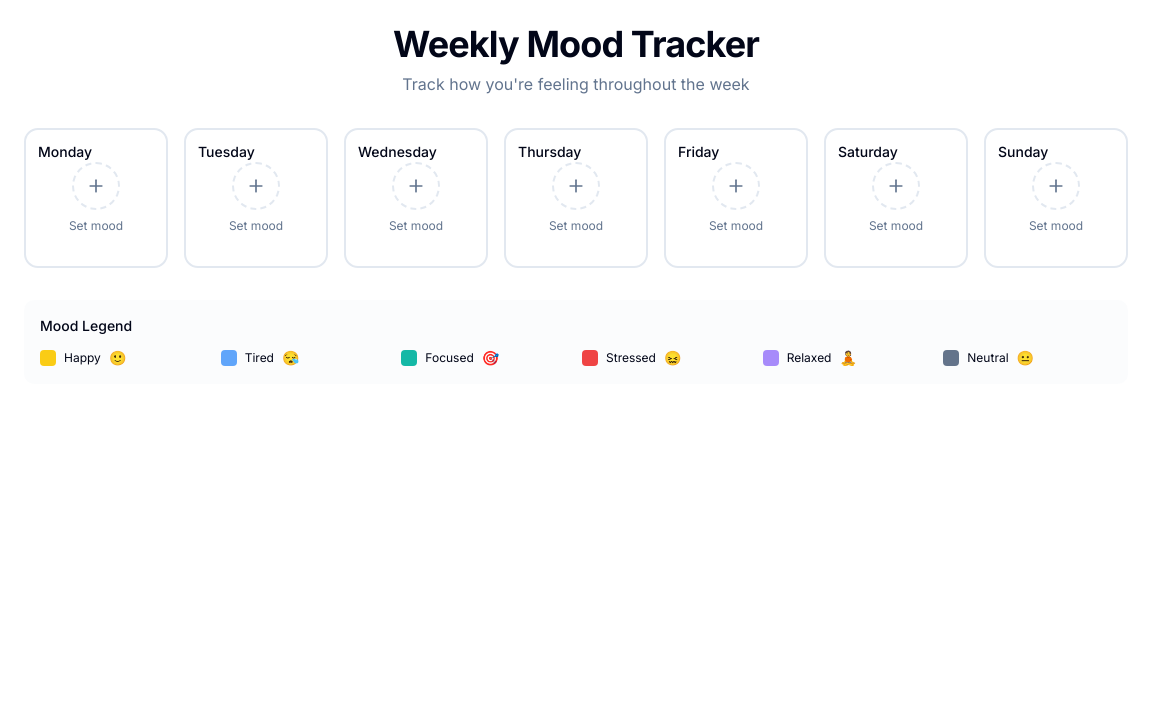
Test case: MoodBoard › lets the user set a day's mood
The width and height of the screenshot is (1152, 720).
Click the button with aria-label "Tuesday mood: not set": [256, 198] box [184,128,328,268]
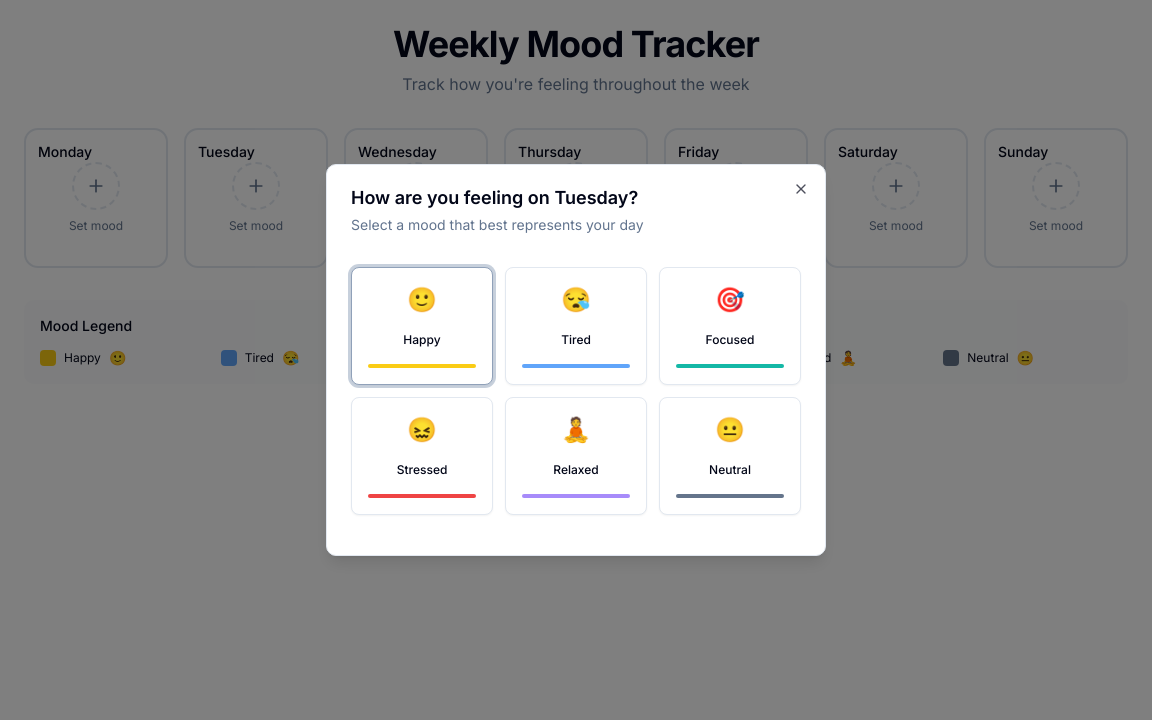
Click the button "🙂 happy": [422, 326] box [351,267,493,385]
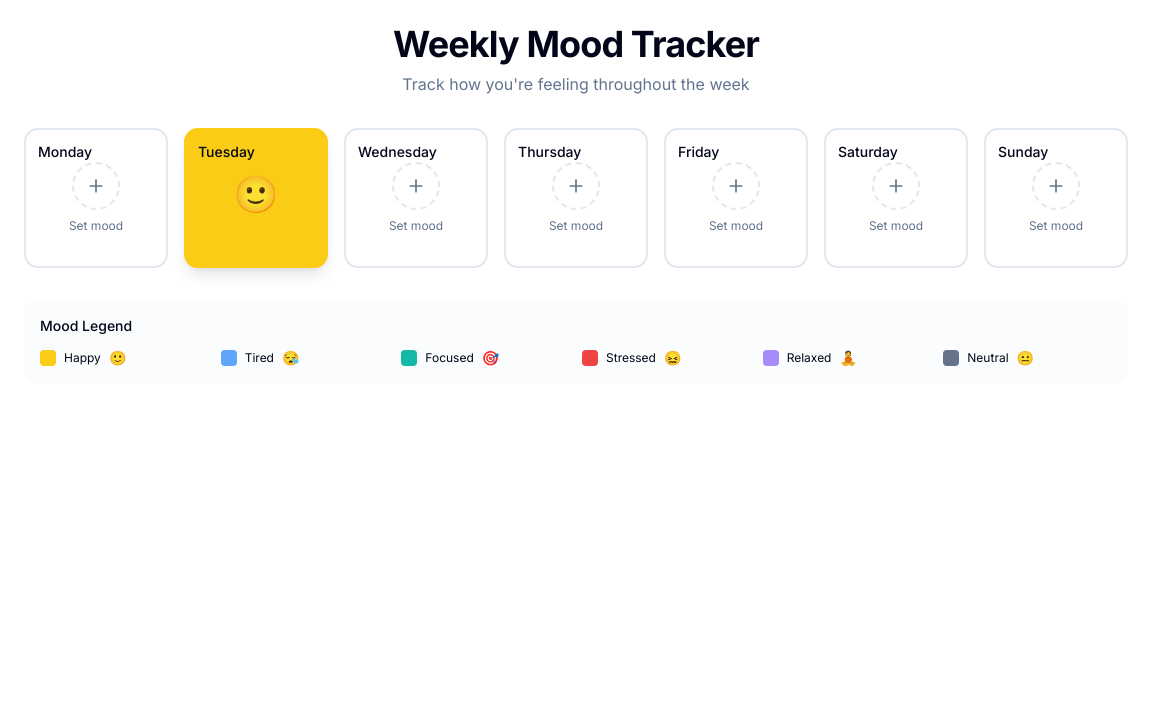
Check: the dialog is gone
Check: the button with aria-label "Tuesday mood: happy" is shown, box [184,128,328,268]
